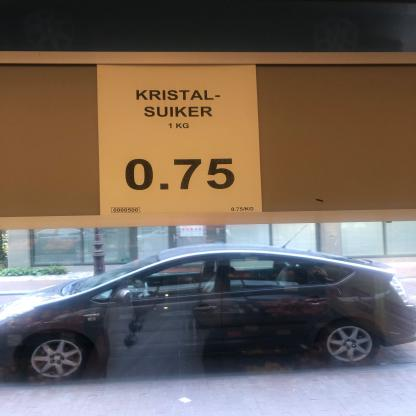prtg: (97, 64, 264, 217)
